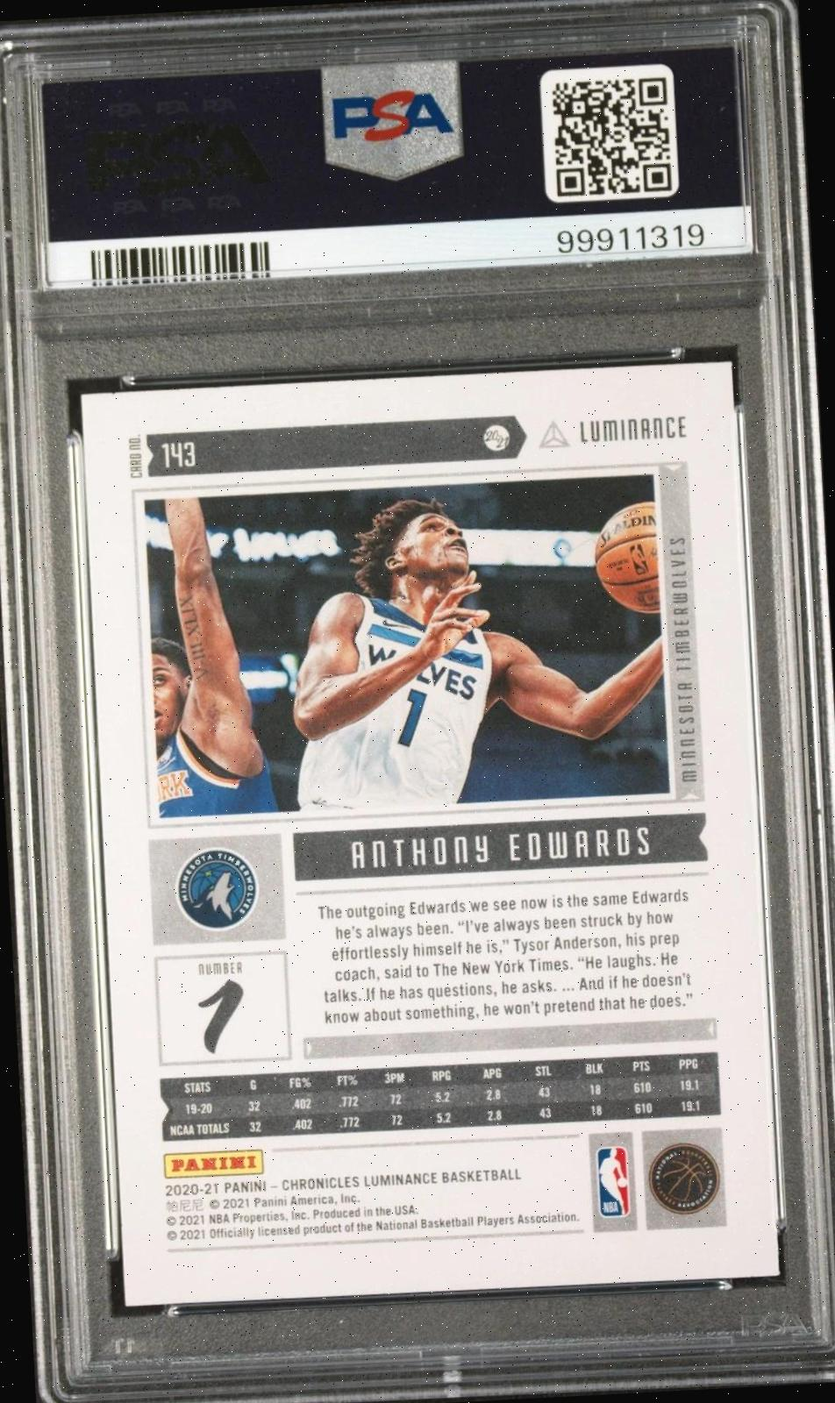card-2UtV: (80, 359, 781, 1307)
